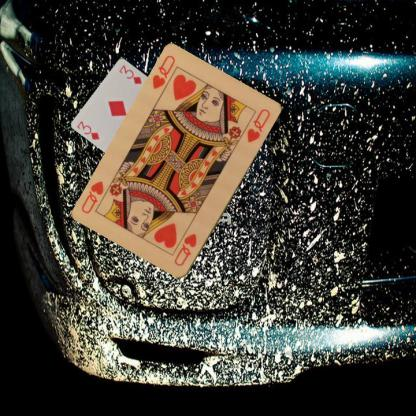3d: (75, 118, 101, 141)
Qh: (150, 52, 176, 90), (172, 231, 198, 268)
